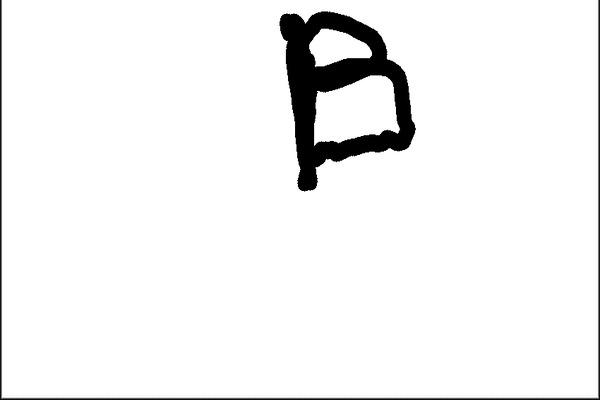B: (265, 7, 424, 196)
